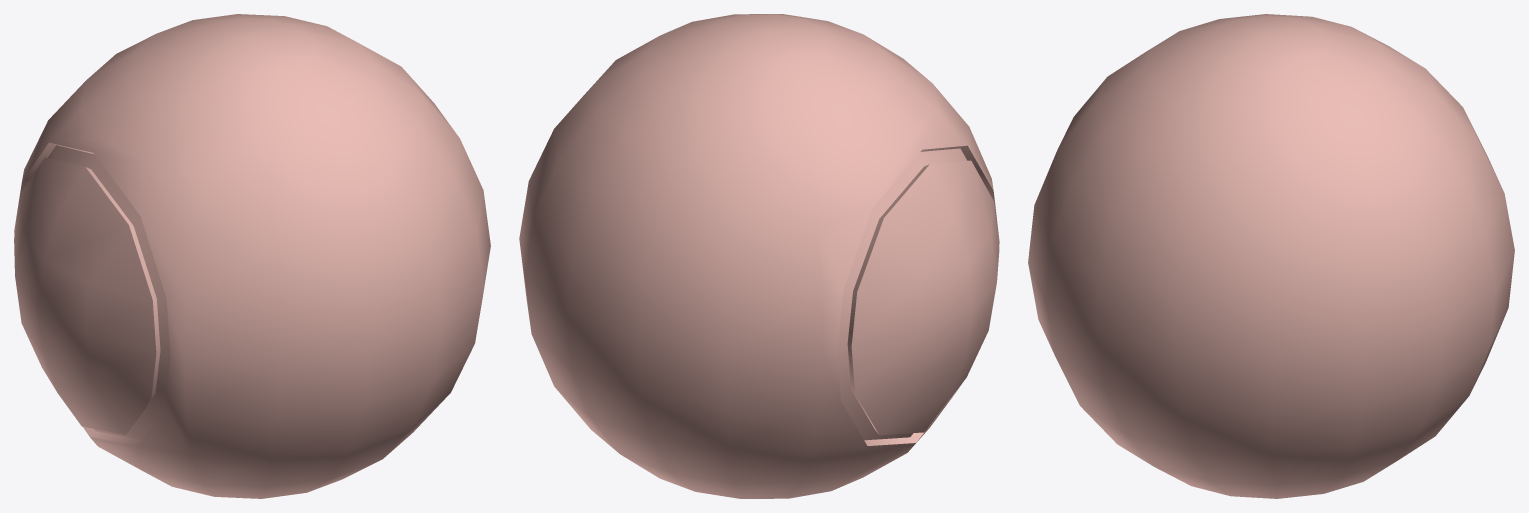
File: Hamster NPC.fbx
3 views of the same model, side by side, from view 1: azimuth 30°, elevation 25°; view 2: azimuth 150°, elevation 25°; view 3: azimuth 270°, elevation 25° (orthographic).
Visible parts, largest first — view 1: Esfera_proyect:Esfera_Vehiculo; view 2: Esfera_proyect:Esfera_Vehiculo; view 3: Esfera_proyect:Esfera_Vehiculo.
Part boxes in pixels (<box>): Esfera_proyect:Esfera_Vehiculo: <box>14,14,490,498</box>; Esfera_proyect:Esfera_Vehiculo: <box>519,14,999,498</box>; Esfera_proyect:Esfera_Vehiculo: <box>1028,14,1514,498</box>.
Size of the model in its own units: 3.02 by 3.01 by 3.01.
